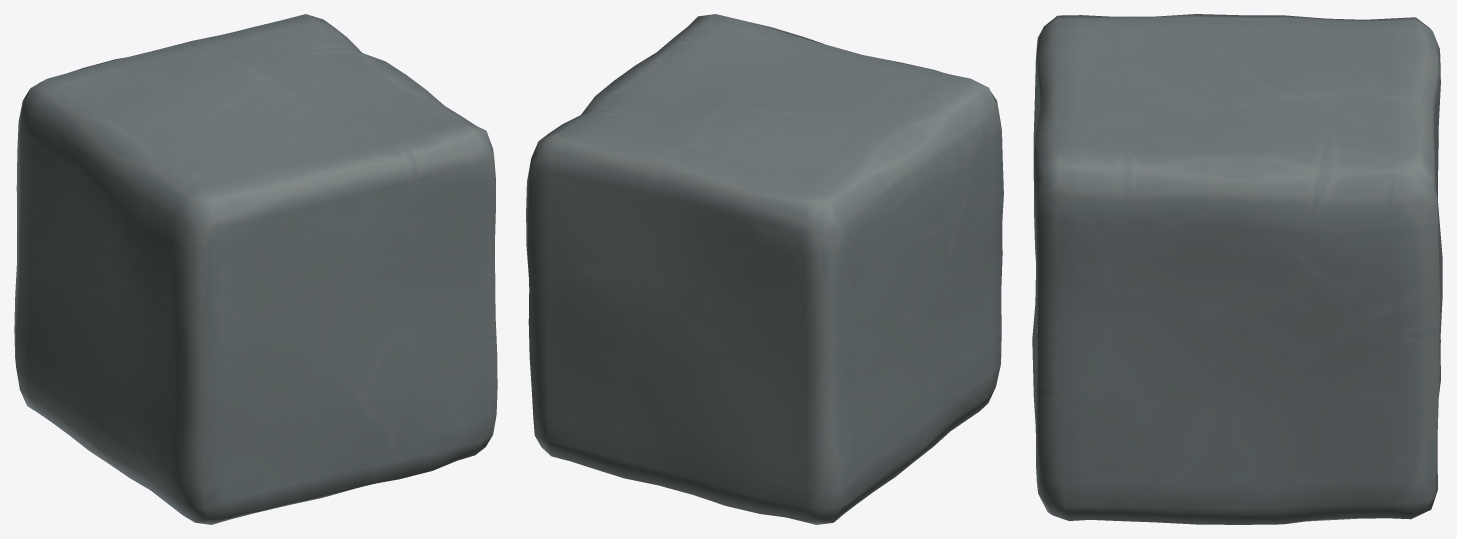
File: Rock_low.fbx
3 views of the same model, side by side, from view 1: azimuth 30°, elevation 25°; view 2: azimuth 150°, elevation 25°; view 3: azimuth 270°, elevation 25° (orthographic). The views are drawn at different scales.
Parts seen in each view (by area): view 1: Low; view 2: Low; view 3: Low.
Part boxes in pixels (bbox=[...]): Low: bbox=[14, 14, 497, 524]; Low: bbox=[526, 14, 1003, 524]; Low: bbox=[1032, 14, 1442, 524].
Size of the model in its own units: 2.07 by 2.07 by 2.06.
Materials: 1 (1 with a texture image).
